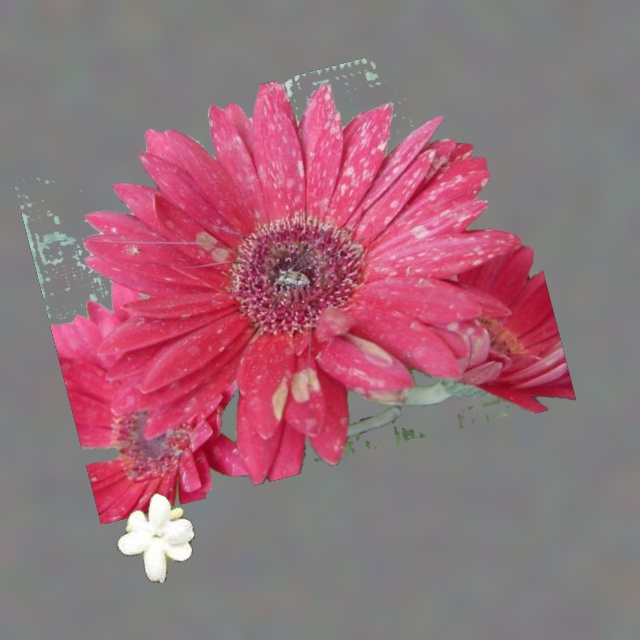daisy: (15, 58, 575, 523)
jasmine: (117, 493, 194, 583)
